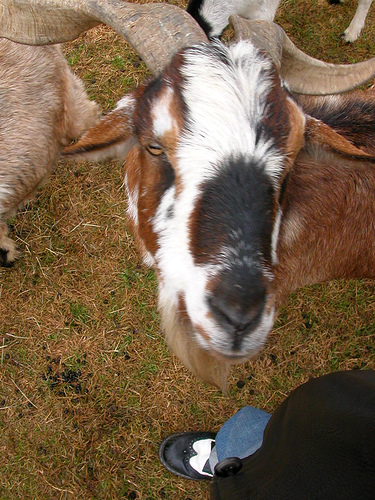goat: (1, 1, 375, 389)
